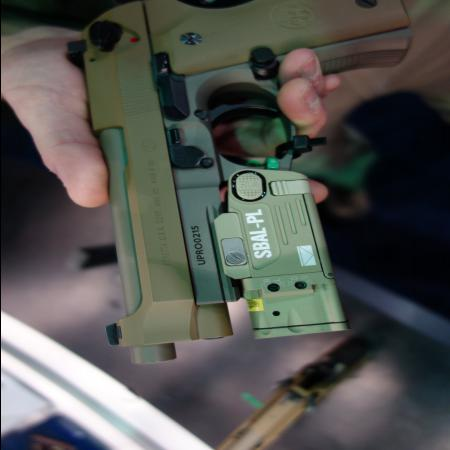Pistol: (64, 0, 409, 366)
